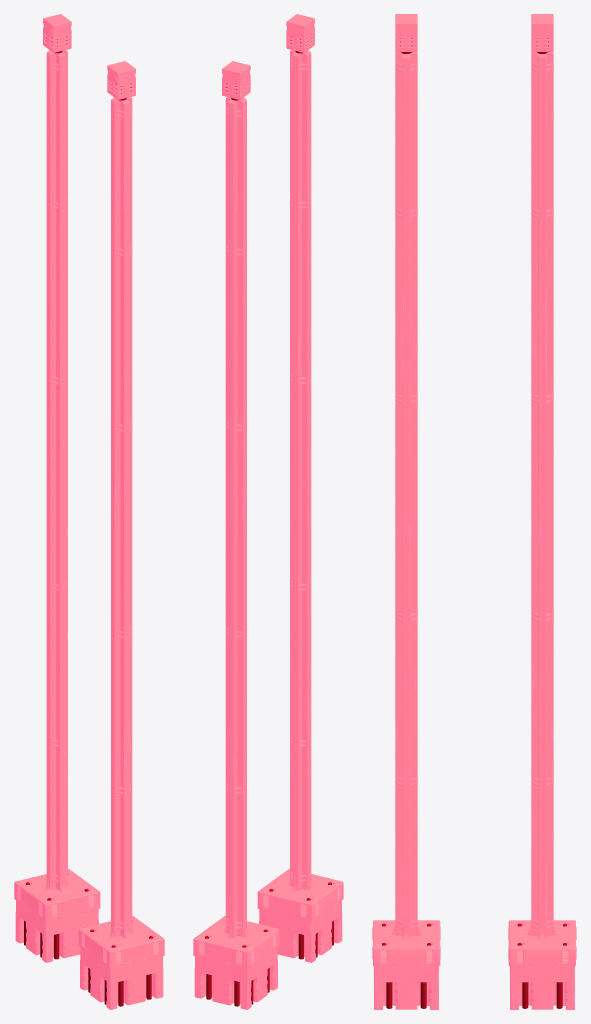
File: Pillar.fbx
3 views of the same model, side by side, from view 1: azimuth 30°, elevation 25°; view 2: azimuth 150°, elevation 25°; view 3: azimuth 270°, elevation 25° (orthographic). The views are drawn at different scales.
Visible parts, largest first — view 1: pillar-top.002; view 2: pillar-top.002; view 3: pillar-top.002.
Part boxes in pixels (x1=…): pillar-top.002: x1=14, y1=14, x2=164, y2=1009; pillar-top.002: x1=193, y1=14, x2=343, y2=1009; pillar-top.002: x1=372, y1=14, x2=576, y2=1009.
Bounding box in the file's own units: 1325 × 21077 × 3988.
